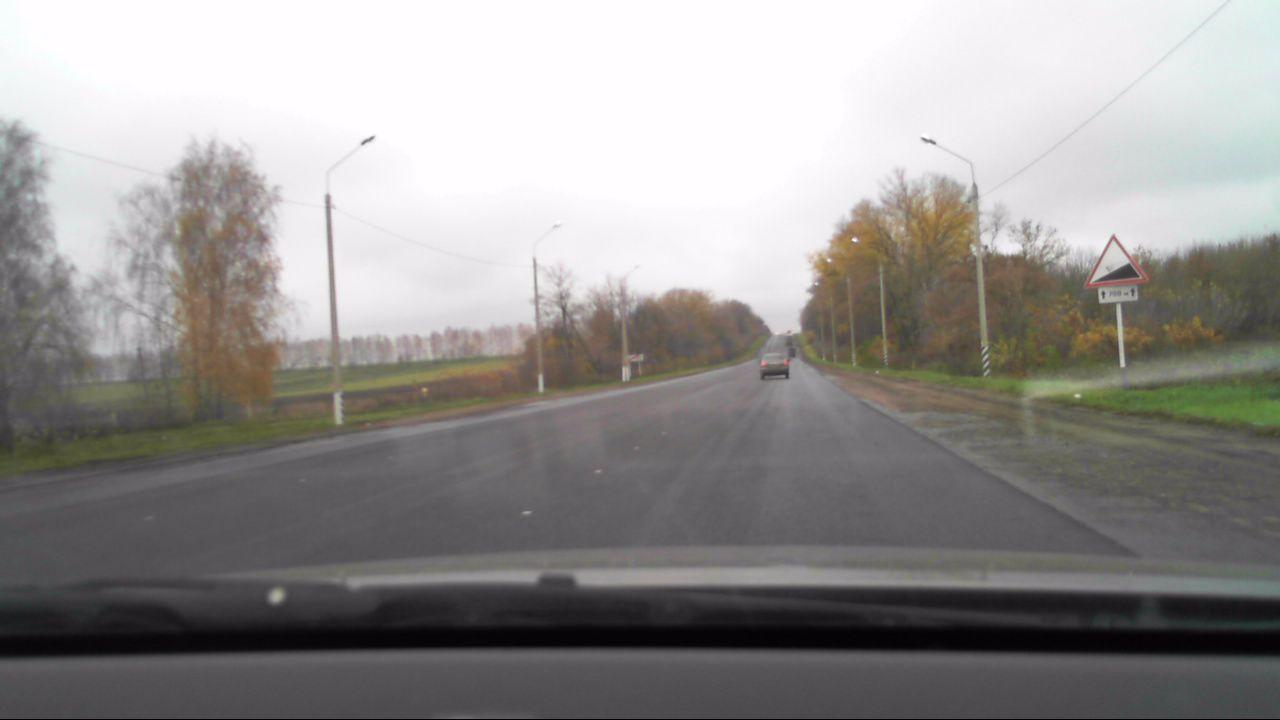1_14: (1086, 231, 1146, 284)
8_2_1: (1095, 286, 1141, 304)
